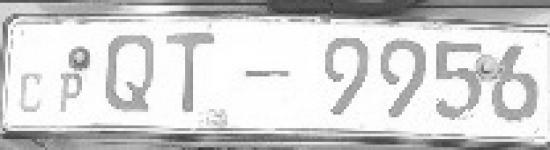-: (242, 65, 296, 82)
5: (432, 34, 489, 127)
6: (488, 38, 545, 129)
9: (316, 29, 376, 123), (376, 30, 432, 125)
C: (17, 68, 49, 114)
P: (50, 69, 88, 115)
Q: (102, 29, 164, 117)
T: (162, 28, 224, 119)
